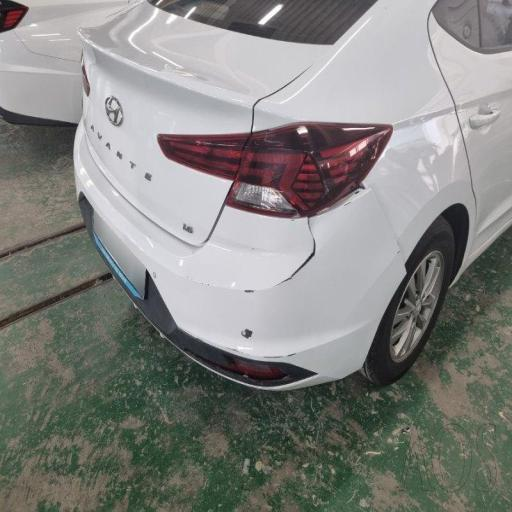broken: (269, 138, 346, 298)
scratch: (411, 92, 501, 168)
